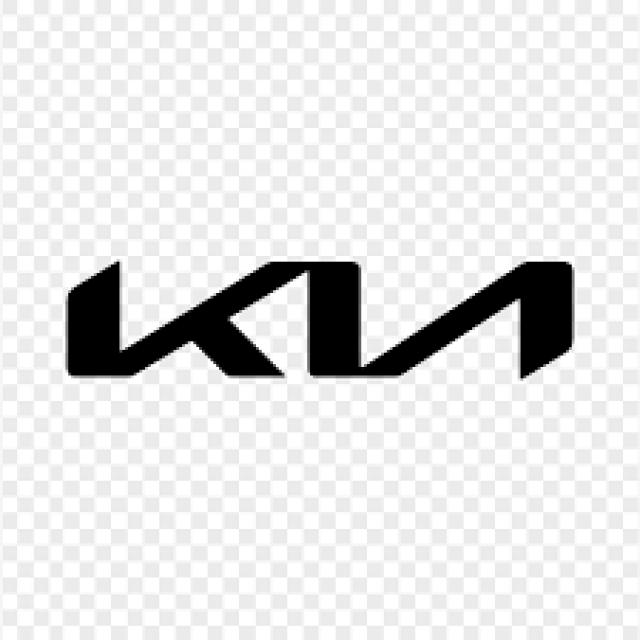kia: (62, 240, 588, 387)
